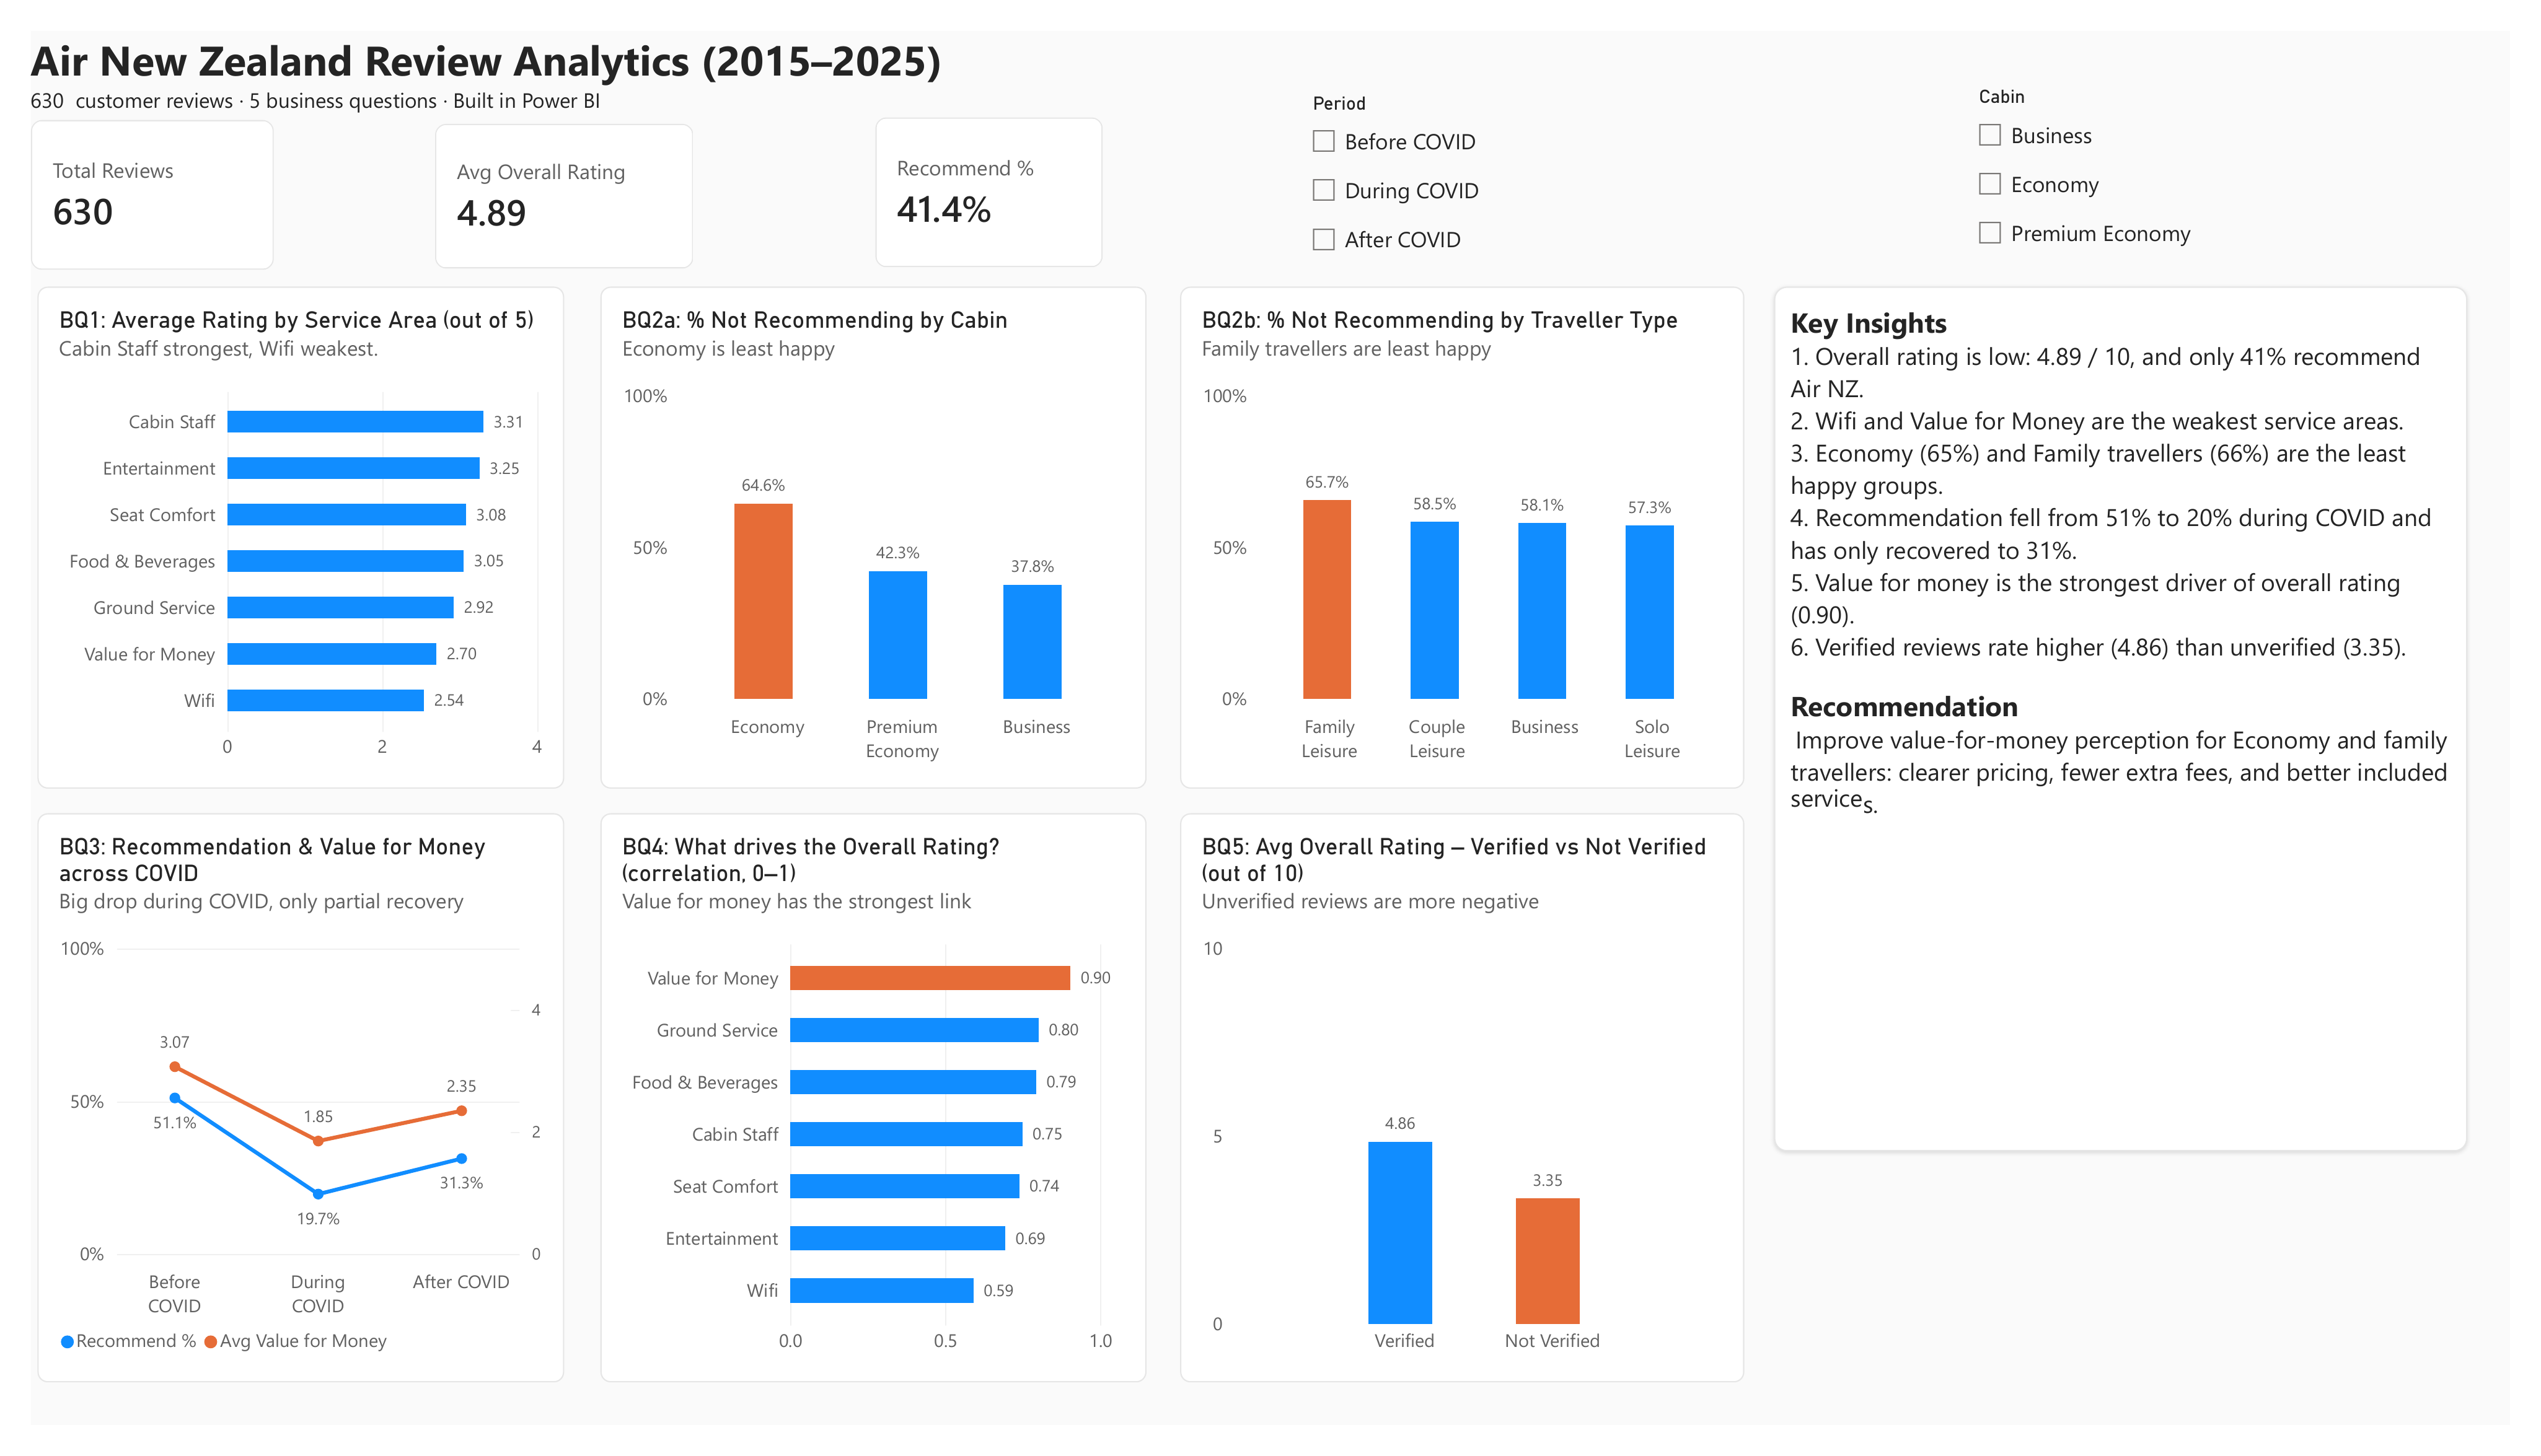

This screenshot's page, from the dashboard's own definition file:
{"tool":"powerbi","page":{"name":"Dashboard","canvas":[1920,1080],"ordinal":0},"visuals":[{"type":"textbox","box":[0,0,1402.9,71.6],"z":0},{"type":"cardVisual","fields":{"Data":["Reviews.Total Reviews"]},"box":[0,69.2,188.5,116.9],"z":1000},{"type":"cardVisual","fields":{"Data":["Reviews.Avg Overall Rating"]},"box":[312.6,71.6,200,112.5],"z":2000},{"type":"cardVisual","fields":{"Data":["Reviews.Recommend %"]},"box":[653.7,66.8,176.6,116.9],"z":3000},{"type":"slicer","fields":{"Values":["Reviews.Period"]},"box":[985.4,47.7,365,155.1],"z":4000},{"type":"slicer","fields":{"Values":["Reviews.Cabin"]},"box":[1500.7,42.9,386.5,140.8],"z":5000},{"type":"clusteredBarChart","title":"BQ1: Average Rating by Service Area (out of 5)","fields":{"Category":["Service Areas.Service Area"],"Y":["Reviews.Avg Service Score"]},"box":[4.8,198,408,388.9],"z":6000},{"type":"clusteredColumnChart","title":"BQ2a: % Not Recommending by Cabin","fields":{"Category":["Reviews.Cabin"],"Y":["Reviews.Not Recommend %"]},"box":[441.4,198,422.3,388.9],"z":7000},{"type":"clusteredColumnChart","title":"BQ2b: % Not Recommending by Traveller Type","fields":{"Category":["Reviews.Traveller Type"],"Y":["Reviews.Not Recommend %"]},"box":[889.9,198,436.6,388.9],"z":8000},{"type":"lineChart","title":"BQ3: Recommendation & Value for Money across COVID","fields":{"Category":["Reviews.Period"],"Y":["Reviews.Recommend %"],"Y2":["Reviews.Avg Value for Money"]},"box":[4.8,606,408,441.4],"z":9000},{"type":"clusteredBarChart","title":"BQ4: What drives the Overall Rating? (correlation, 0–1)","fields":{"Category":["Service Areas.Service Area"],"Y":["Reviews.Correlation with Overall"]},"box":[441.4,606,422.3,441.4],"z":10000},{"type":"clusteredColumnChart","title":"BQ5: Avg Overall Rating – Verified vs Not Verified (out of 10)","fields":{"Category":["Reviews.Verified Status"],"Y":["Reviews.Avg Overall Rating"]},"box":[889.9,606,436.6,441.4],"z":11000},{"type":"textbox","box":[1350.4,198,536.8,670.4],"z":12000}]}

Visuals, with their boxes on the page's 1920x1080 design canvas (x1, y1, x2, y2). These are canvas units, not pixel positions in the 2541x1456 screenshot, which may show the page scaled, cropped or inside an application window:
textbox: <region>0, 0, 1403, 72</region>
cardVisual - Reviews.Total Reviews: <region>0, 69, 188, 186</region>
cardVisual - Reviews.Avg Overall Rating: <region>313, 72, 513, 184</region>
cardVisual - Reviews.Recommend %: <region>654, 67, 830, 184</region>
slicer - Reviews.Period: <region>985, 48, 1350, 203</region>
slicer - Reviews.Cabin: <region>1501, 43, 1887, 184</region>
"BQ1: Average Rating by Service Area (out of 5)" clusteredBarChart: <region>5, 198, 413, 587</region>
"BQ2a: % Not Recommending by Cabin" clusteredColumnChart: <region>441, 198, 864, 587</region>
"BQ2b: % Not Recommending by Traveller Type" clusteredColumnChart: <region>890, 198, 1326, 587</region>
"BQ3: Recommendation & Value for Money across COVID" lineChart: <region>5, 606, 413, 1047</region>
"BQ4: What drives the Overall Rating? (correlation, 0–1)" clusteredBarChart: <region>441, 606, 864, 1047</region>
"BQ5: Avg Overall Rating – Verified vs Not Verified (out of 10)" clusteredColumnChart: <region>890, 606, 1326, 1047</region>
textbox: <region>1350, 198, 1887, 868</region>
